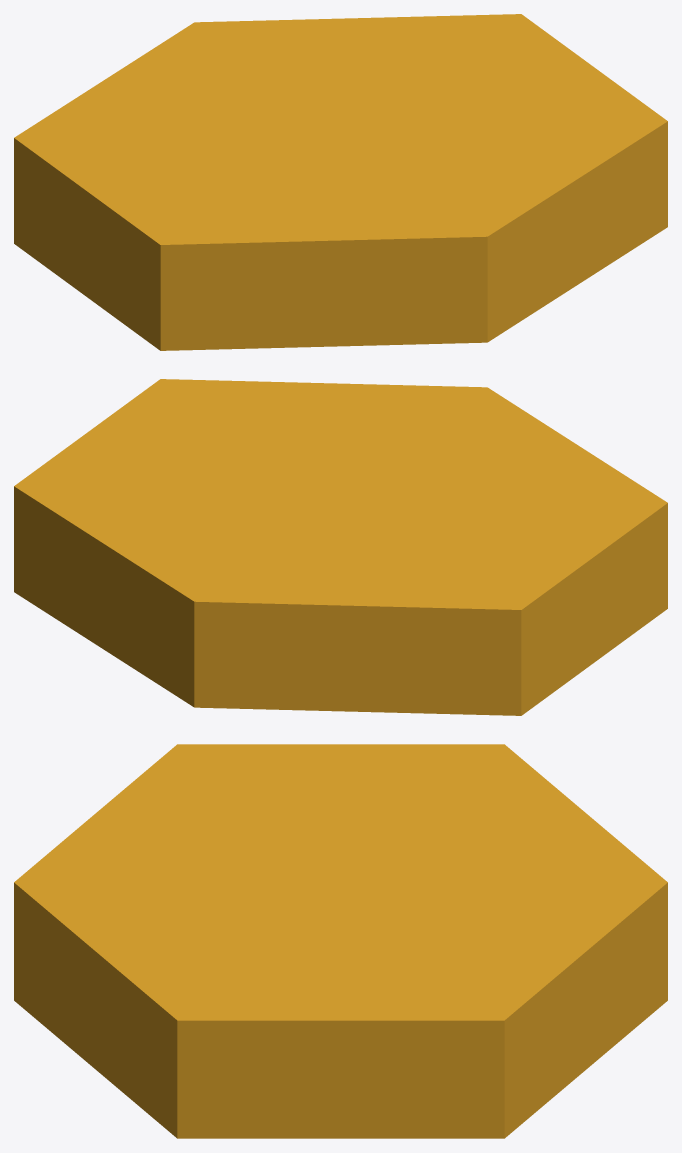
Rendered from hexOrange.glb.
3 renders of one model, top to bottom at view 1: azimuth 30°, elevation 25°; view 2: azimuth 150°, elevation 25°; view 3: azimuth 270°, elevation 25°, orthographic. The views are drawn at different scales.
Parts seen in each view (by area): view 1: hexOrange; view 2: hexOrange; view 3: hexOrange.
Boxes of the visible parts, bbox=[...] form: hexOrange: bbox=[14, 14, 667, 350]; hexOrange: bbox=[14, 379, 667, 715]; hexOrange: bbox=[14, 744, 667, 1138].
Size of what is drawn, in the model's own units: 1 by 0.1994 by 1.
